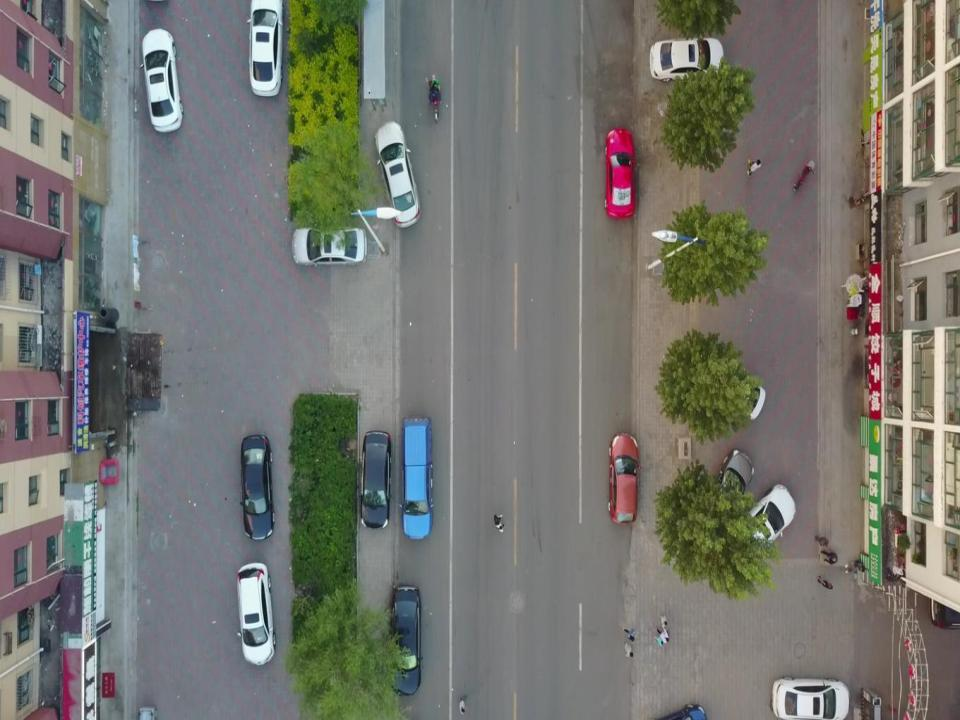car: (374, 120, 421, 228), (732, 484, 796, 559), (140, 28, 184, 134), (236, 563, 276, 665), (387, 585, 423, 696), (705, 448, 755, 526), (702, 361, 766, 421), (240, 435, 275, 540), (246, 0, 284, 96), (650, 33, 724, 82), (772, 676, 850, 720), (358, 430, 392, 529), (292, 223, 367, 267), (608, 433, 642, 524), (604, 128, 637, 219)
van: (399, 417, 434, 539)
